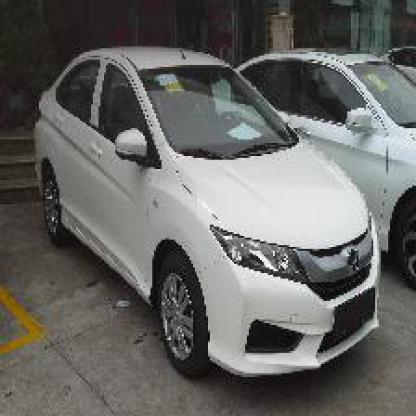not_emergency: (30, 48, 390, 379)
